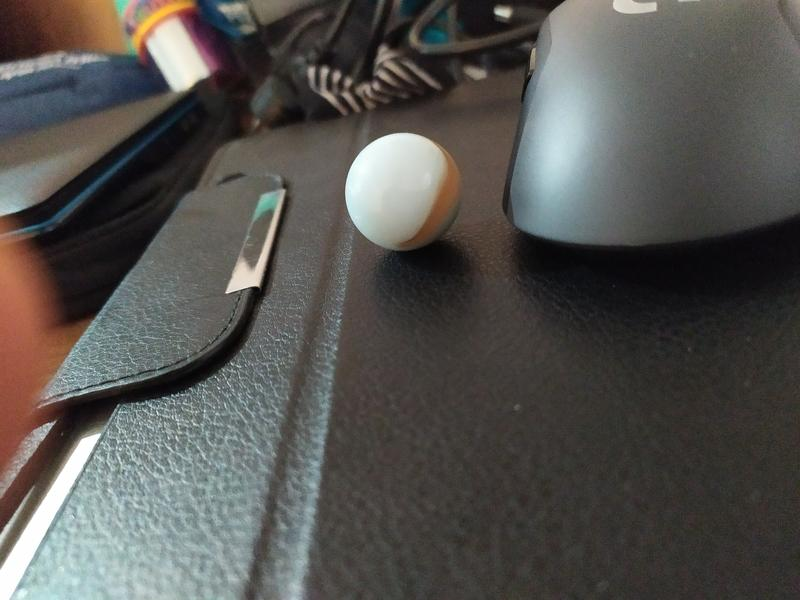Warning: (342, 129, 466, 254)
